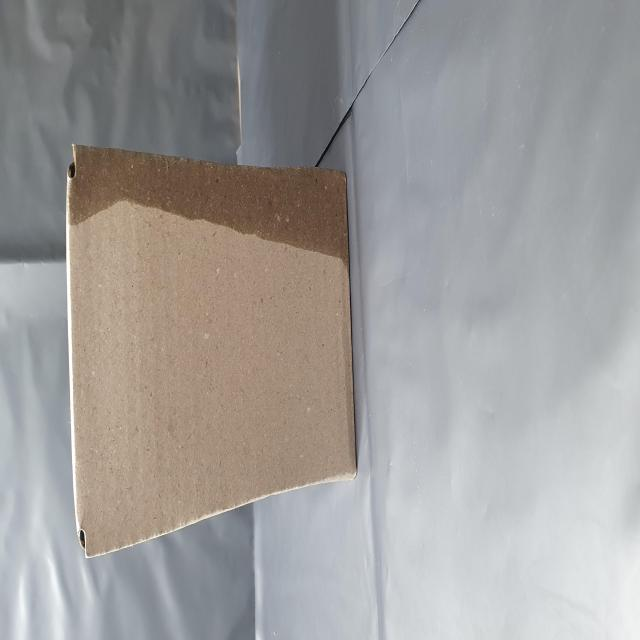wet: (196, 130, 268, 626)
